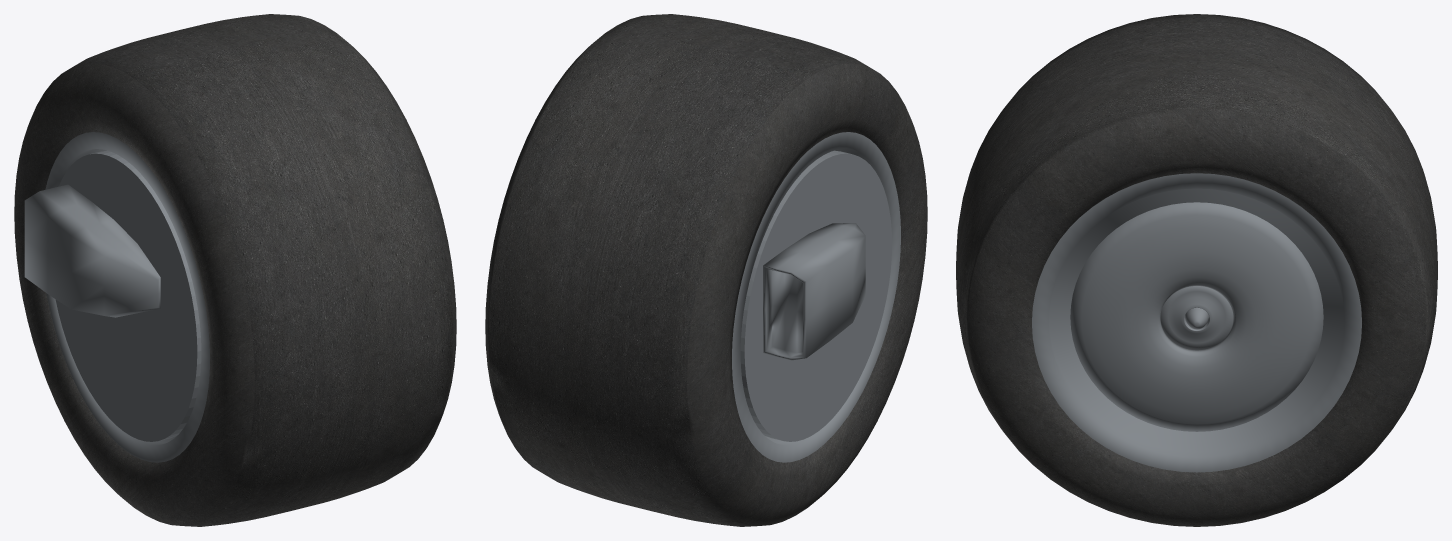
The model's file is f1_2026_2008_wheel_front.glb.
3 views of the same model, side by side, from view 1: azimuth 30°, elevation 25°; view 2: azimuth 150°, elevation 25°; view 3: azimuth 270°, elevation 25° (orthographic). The views are drawn at different scales.
Visible parts, largest first — view 1: GEO_WHEEL_TIRE, GEO_WHEEL_HUB; view 2: GEO_WHEEL_TIRE, GEO_WHEEL_HUB; view 3: GEO_WHEEL_TIRE, GEO_WHEEL_HUB.
Part boxes in pixels (bbox=[...]): GEO_WHEEL_TIRE: bbox=[14, 14, 456, 526]; GEO_WHEEL_HUB: bbox=[24, 132, 209, 462]; GEO_WHEEL_TIRE: bbox=[485, 14, 927, 526]; GEO_WHEEL_HUB: bbox=[732, 132, 900, 462]; GEO_WHEEL_TIRE: bbox=[956, 14, 1437, 526]; GEO_WHEEL_HUB: bbox=[1032, 173, 1361, 472].
Size of the model in its own units: 0.4173 by 0.66 by 0.66.
Materials: 2 (1 with a texture image).
